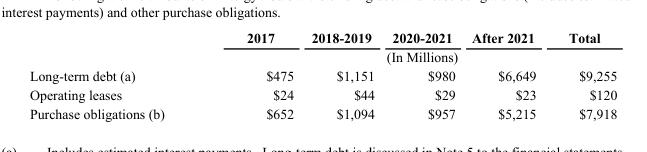table: (28, 29, 616, 120)
table column: (28, 29, 205, 120), (205, 29, 301, 120), (462, 29, 551, 120), (301, 29, 382, 120), (382, 29, 462, 120), (551, 29, 616, 120)
table column header: (28, 29, 616, 65)
table row: (28, 46, 616, 65), (28, 65, 616, 84), (28, 84, 616, 103), (28, 29, 616, 46), (28, 103, 616, 120)
table spanning cell: (205, 46, 616, 65)
